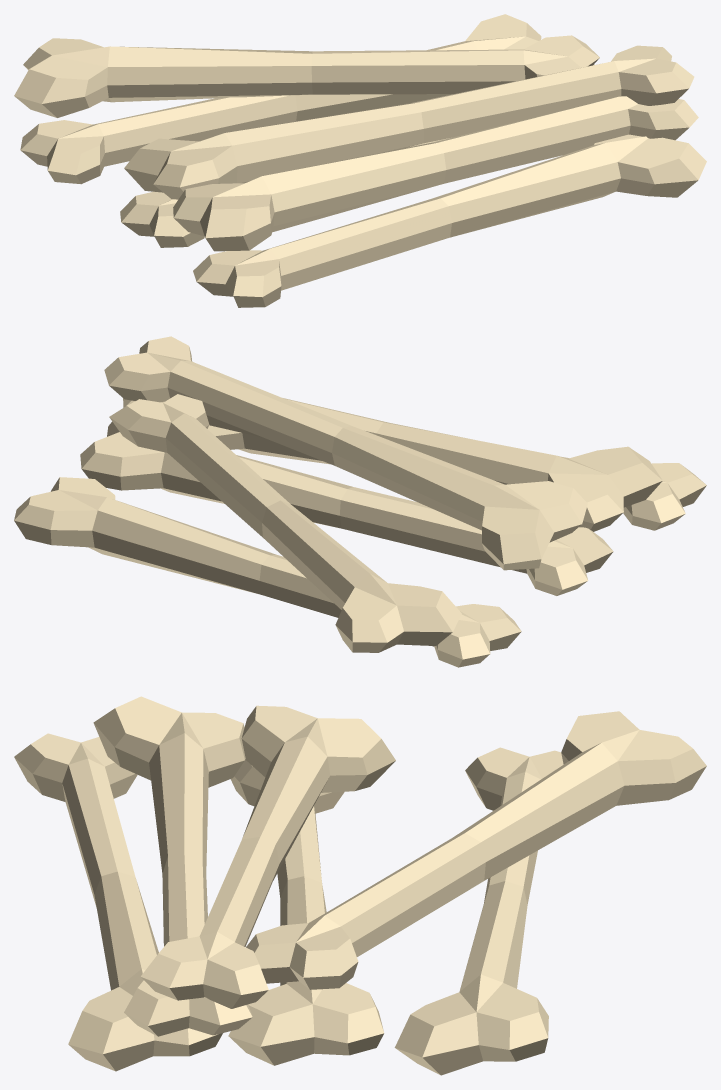
File: Bones-obstacle Variation 4.fbx
The picture shows the model from 3 angles, top to bottom: view 1: azimuth 30°, elevation 25°; view 2: azimuth 150°, elevation 25°; view 3: azimuth 270°, elevation 25°; orthographic projection. The views are drawn at different scales.
Visible parts, largest first — view 1: Plane.005; view 2: Plane.005; view 3: Plane.005.
Part boxes in pixels (x1,y1,x2,y2): Plane.005: (14,14,706,307); Plane.005: (14,336,706,667); Plane.005: (14,696,706,1075).
Bounding box in the file's own units: 954 × 182 × 880.
